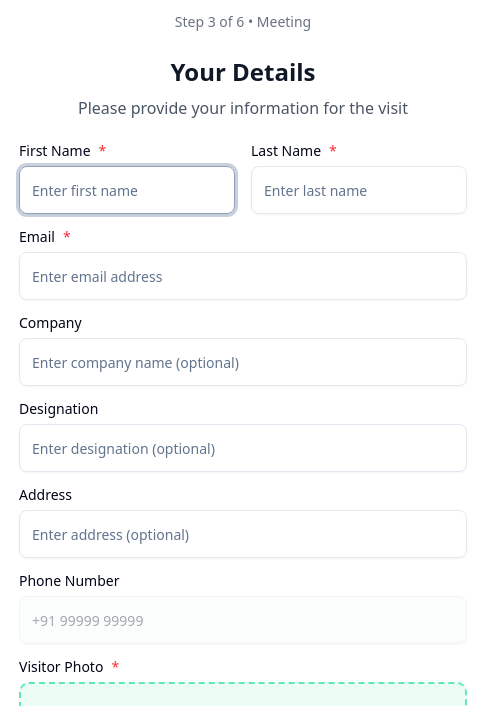
Test case: MeetingRegistrationForm › Form Validation › should validate last name minimum length
This screenshot has width=487, height=706.
Type "B" into the field labelled "Last Name *" at (359, 190), box [251,166,467,214]
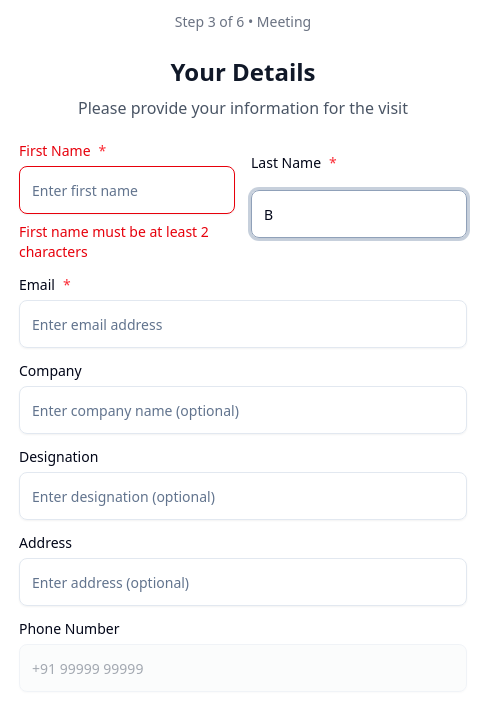
Press Tab
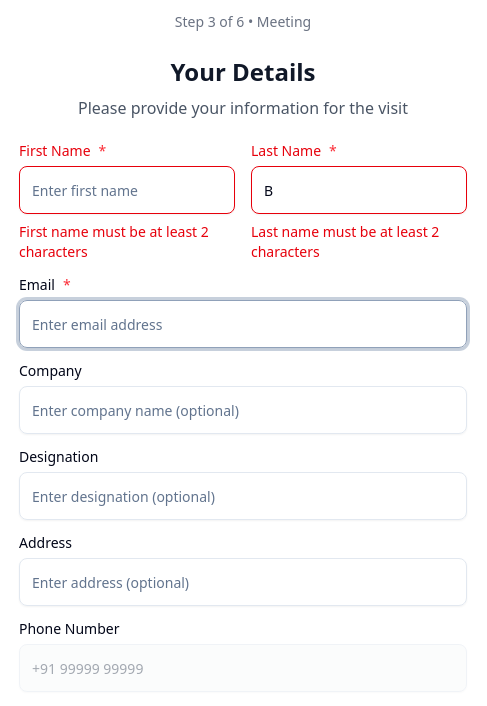
Now the text "Last name must be at least 2 characters" is shown, box [251,222,467,262]
